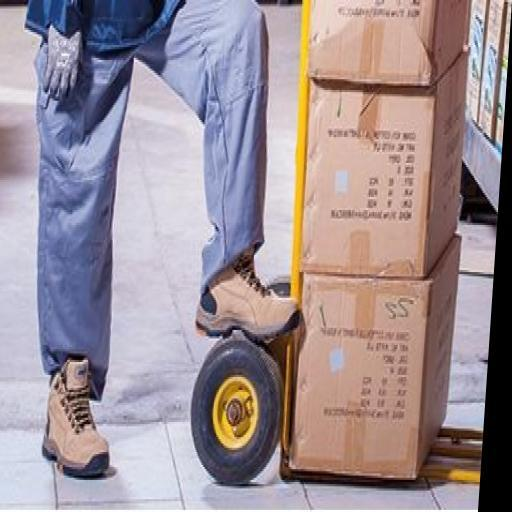safety_boots: (193, 262, 297, 350), (44, 370, 118, 483)
